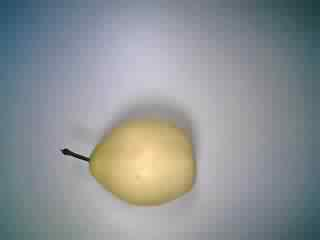pear: (51, 109, 207, 210)
